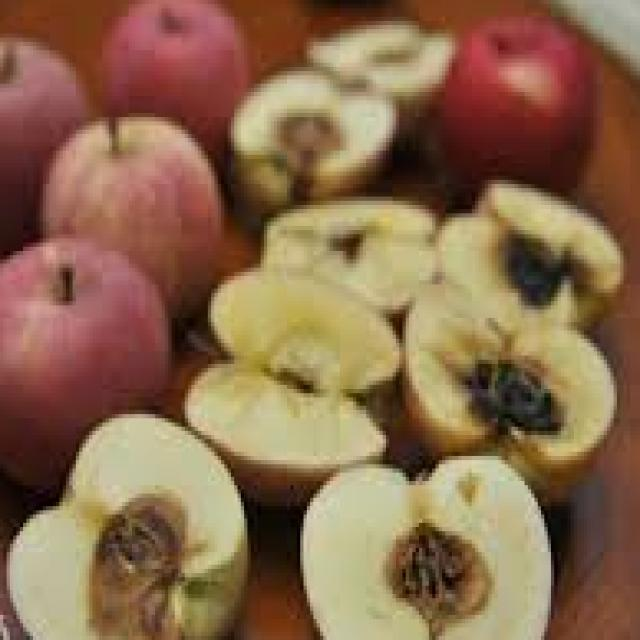inorganic: (176, 235, 393, 519), (224, 82, 622, 234), (11, 403, 275, 630), (293, 450, 588, 637), (51, 93, 237, 335), (406, 273, 605, 484), (11, 220, 186, 436)
